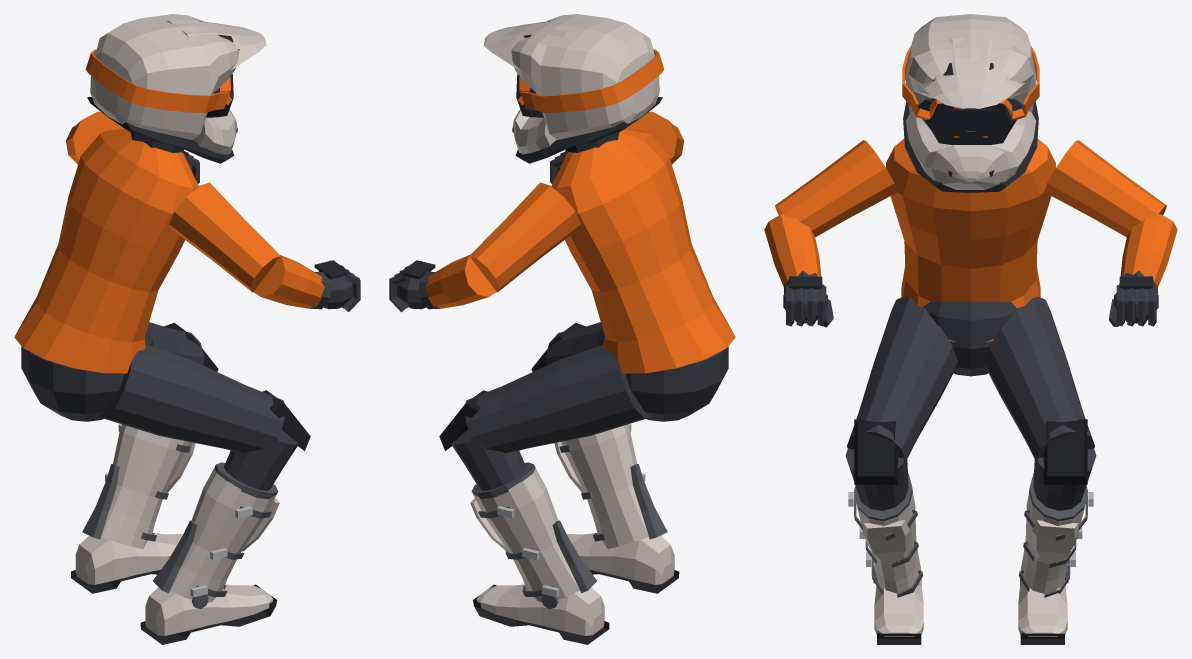
The model's file is race_rider.glb.
3 views of the same model, side by side, from view 1: azimuth 30°, elevation 25°; view 2: azimuth 150°, elevation 25°; view 3: azimuth 270°, elevation 25° (orthographic). The views are drawn at different scales.
Visible parts, largest first — view 1: race_rider; view 2: race_rider; view 3: race_rider.
Boxes of the visible parts, <box> form: race_rider: <box>14,14,360,644</box>; race_rider: <box>389,14,735,644</box>; race_rider: <box>764,14,1177,644</box>.
Size of the model in its own units: 0.6703 by 1.47 by 0.9376.
